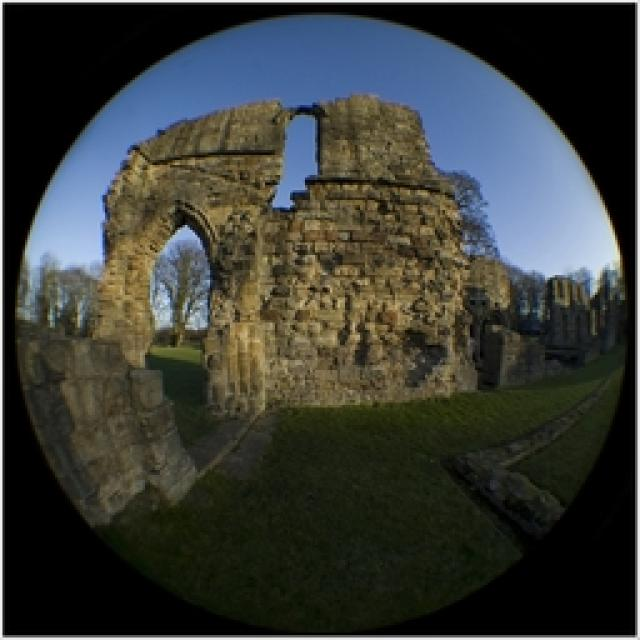Abbey: (93, 91, 481, 419)
